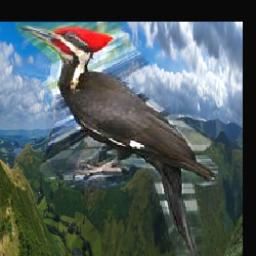Woodpecker: (15, 23, 218, 256)
